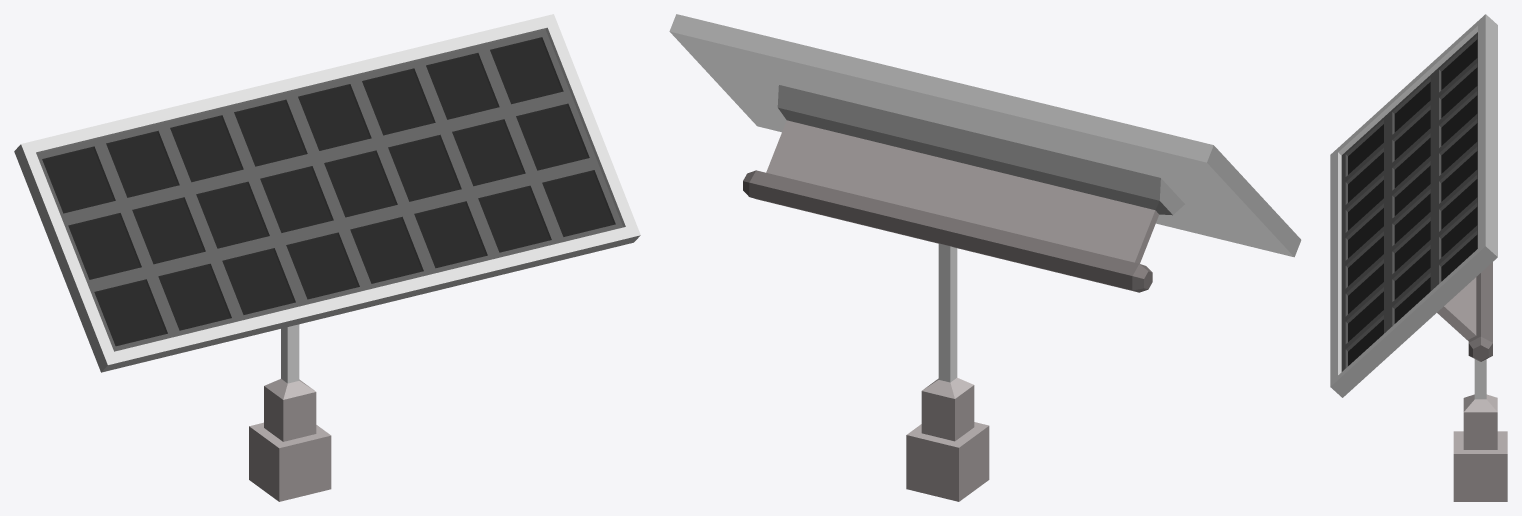
The model's file is SolarPanel_01.glb.
3 views of the same model, side by side, from view 1: azimuth 30°, elevation 25°; view 2: azimuth 150°, elevation 25°; view 3: azimuth 270°, elevation 25° (orthographic). The views are drawn at different scales.
Parts seen in each view (by area): view 1: SolarPanel_01; view 2: SolarPanel_01; view 3: SolarPanel_01.
Boxes of the visible parts, left/top/right/bottom form: SolarPanel_01: left=14, top=14, right=640, bottom=501; SolarPanel_01: left=669, top=14, right=1301, bottom=501; SolarPanel_01: left=1330, top=14, right=1507, bottom=501.
Size of what is drawn, in the model's own units: 0.9007 by 0.6517 by 0.2904.
Materials: 1 (1 with a texture image).
